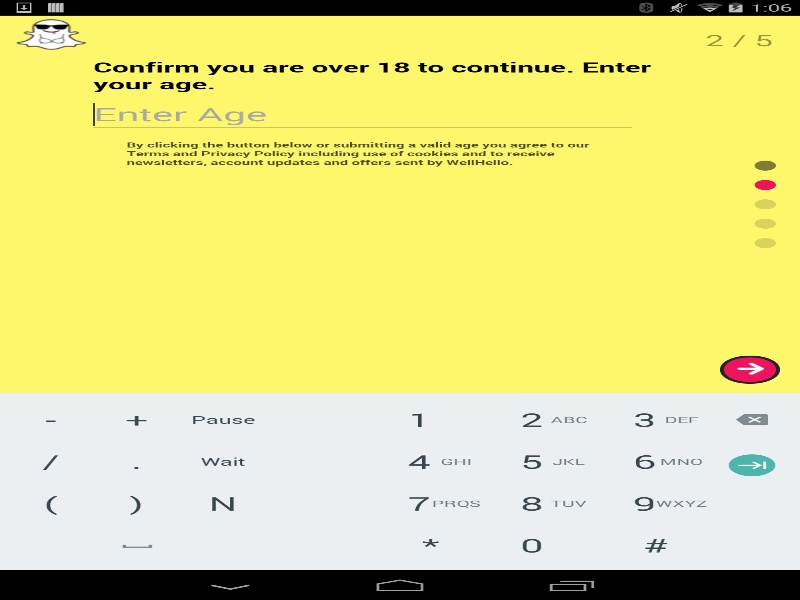Input: (93, 102, 633, 128)
